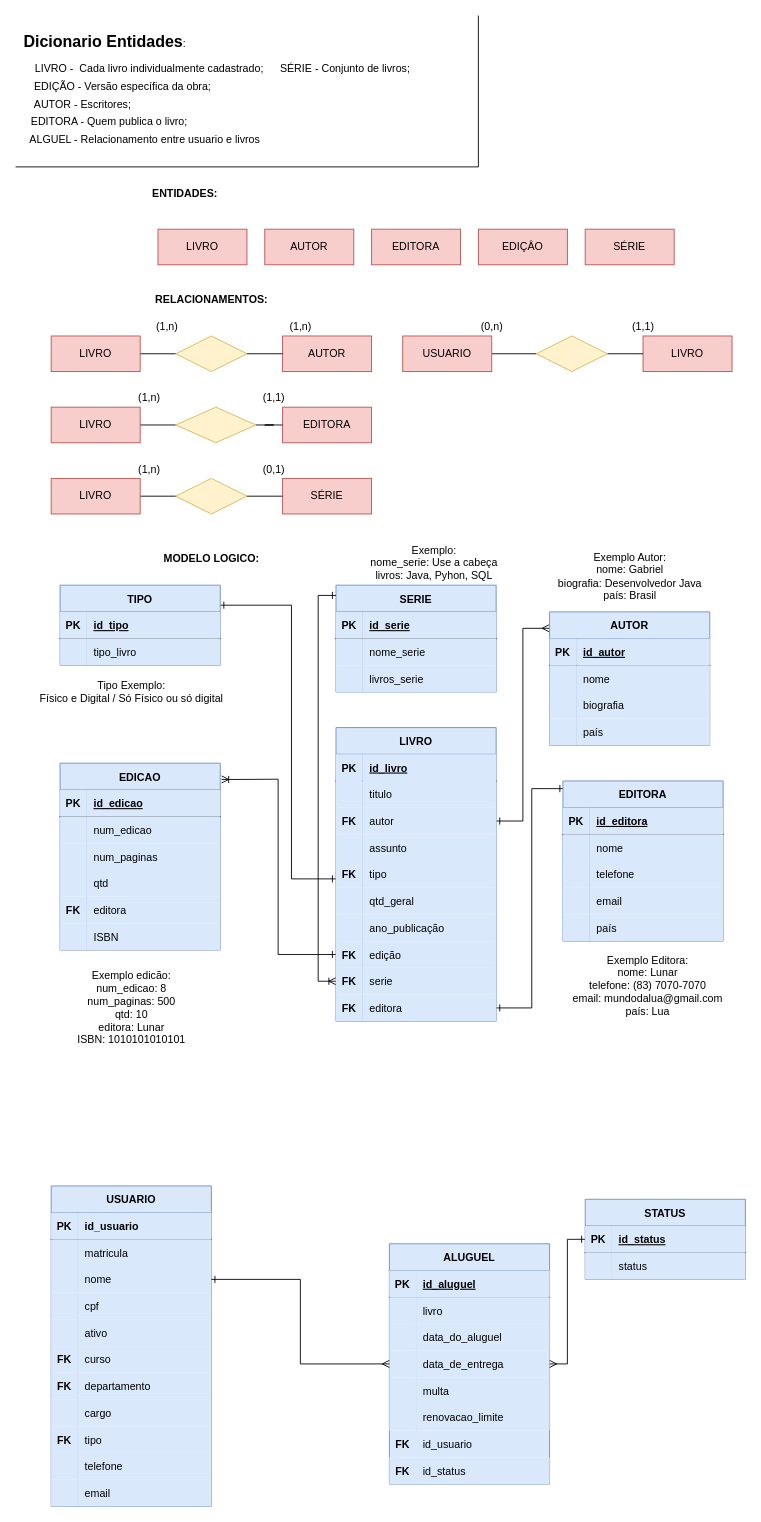
The diagram is 761 pixels wide and 1522 high, and some of its shapes have lost their labels. Each missing label, with the centre of its shape:
ALUGA: point (571, 353)
ESTÁ: point (211, 495)
PUBLICA: point (215, 424)
TEM: point (211, 353)
